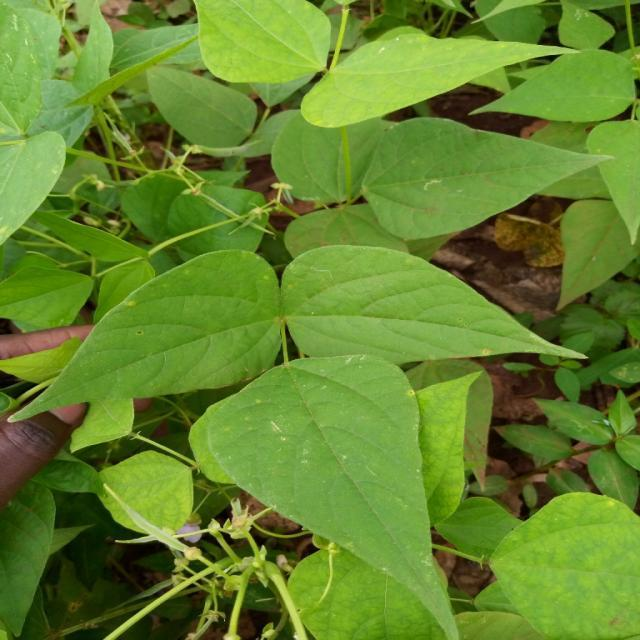embun tepung: (224, 8, 531, 102), (294, 267, 464, 347), (524, 508, 626, 633), (159, 290, 261, 369)
hawar: (87, 298, 152, 394)
mozaik: (213, 365, 418, 482)
